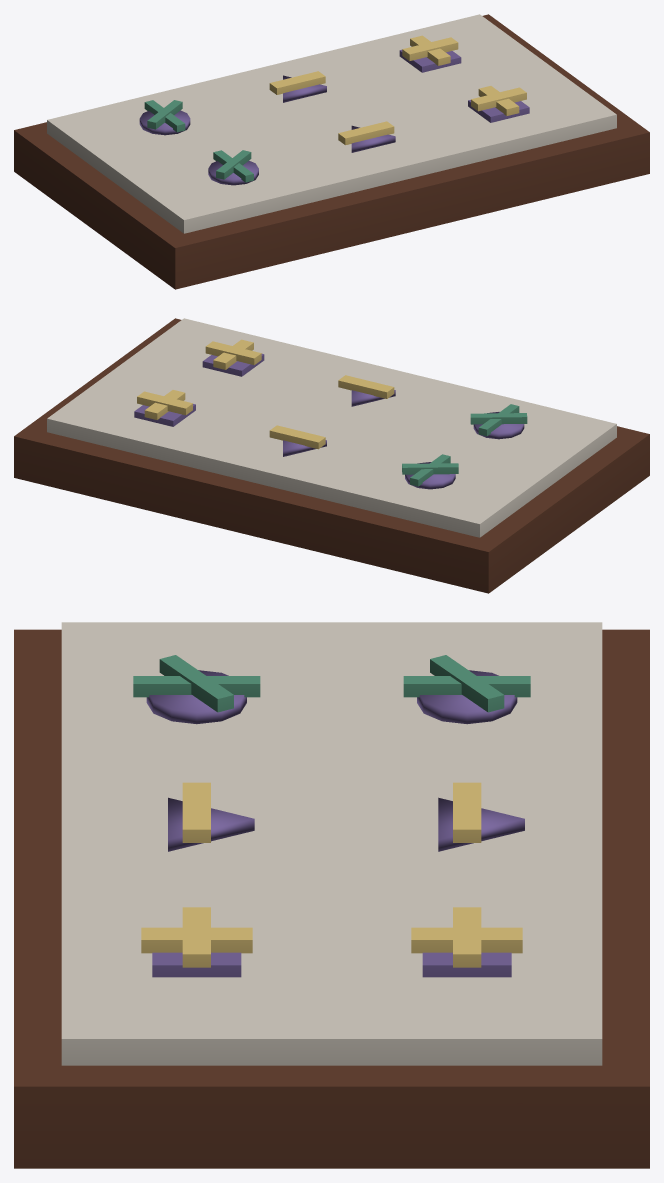
File: prop-echo-books-board.glb
3 views of the same model, one above another, from view 1: azimuth 30°, elevation 25°; view 2: azimuth 150°, elevation 25°; view 3: azimuth 270°, elevation 25° (orthographic). The views are drawn at different scales.
Visible parts, largest first — view 1: prop-echo-books-board; view 2: prop-echo-books-board; view 3: prop-echo-books-board.
Boxes of the visible parts, <box> form: prop-echo-books-board: <box>14,14,649,289</box>; prop-echo-books-board: <box>14,318,649,593</box>; prop-echo-books-board: <box>14,622,649,1168</box>.
Size of the model in its own units: 0.68 by 0.095 by 0.4.
